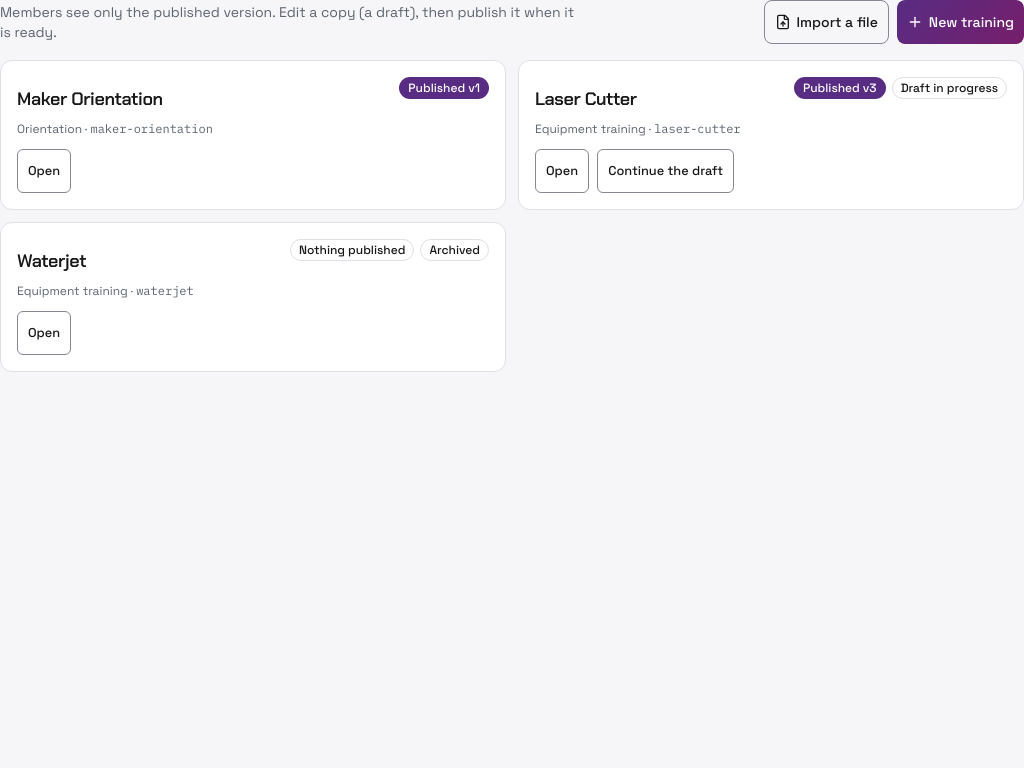
Test case: TrainingsList unsaved changes › asks before throwing away a half-filled new training
The image size is (1024, 768).
Expected: the heading "Laser Cutter" is shown, [535,87,637,111]
Click the button "New training": click(960, 22) [897,0,1023,44]
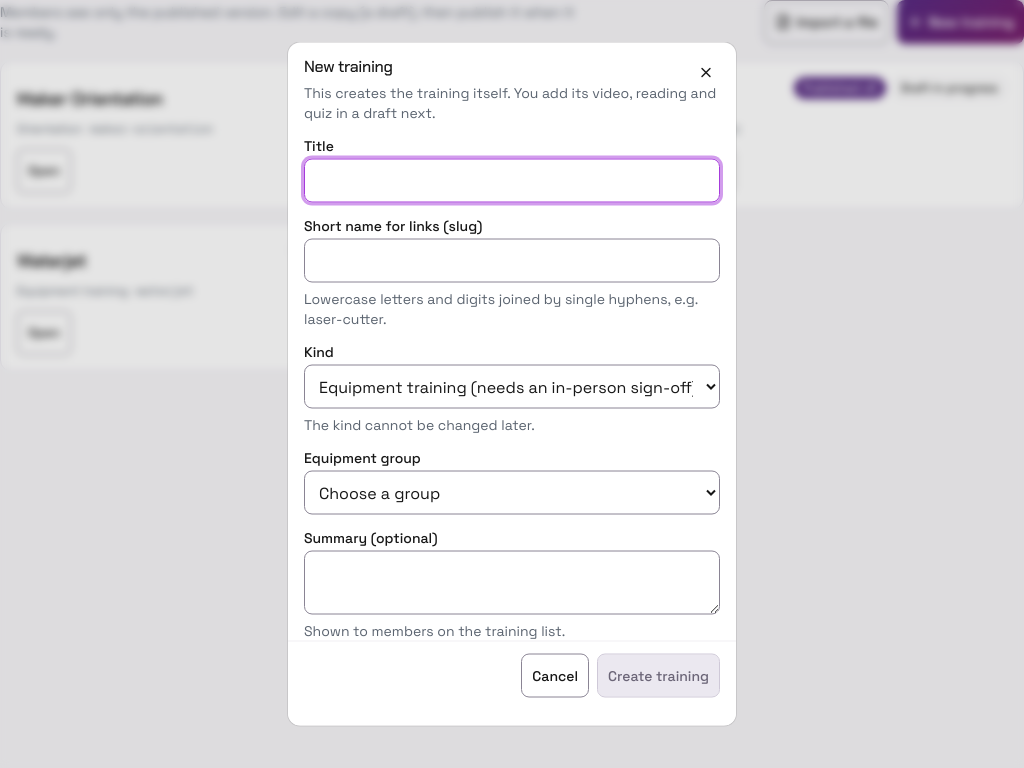
In the field labelled "Title": (512, 180) [304,158,720,202], type "CNC"
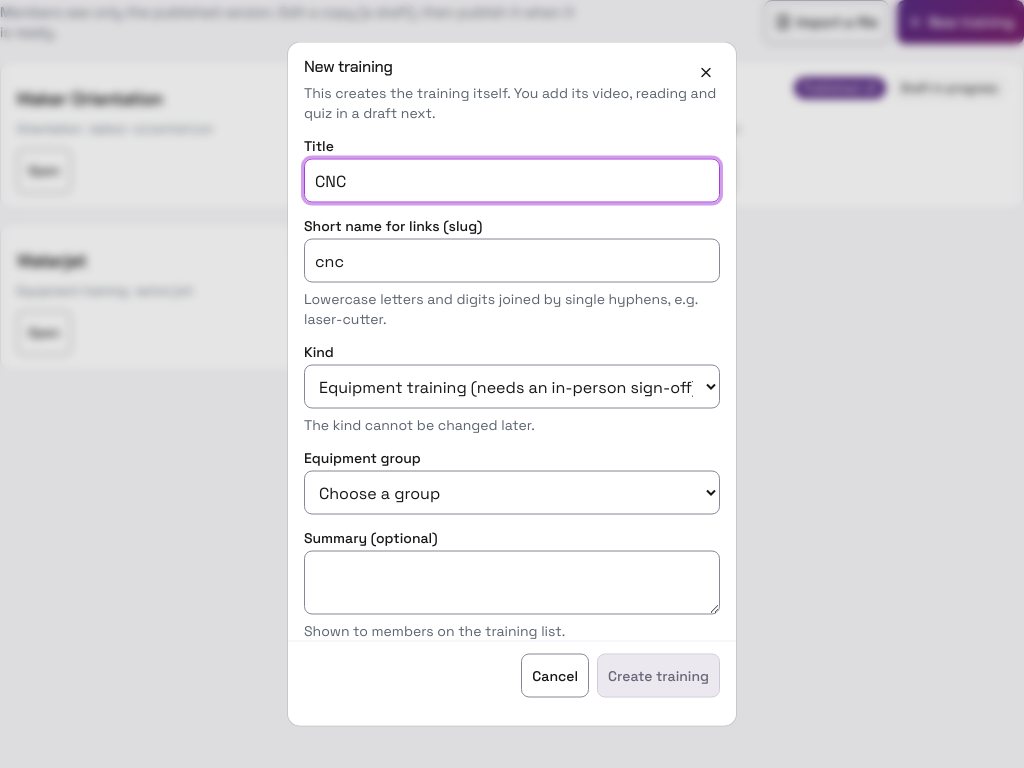
Click the button "Cancel": click(555, 676) [521,654,589,698]
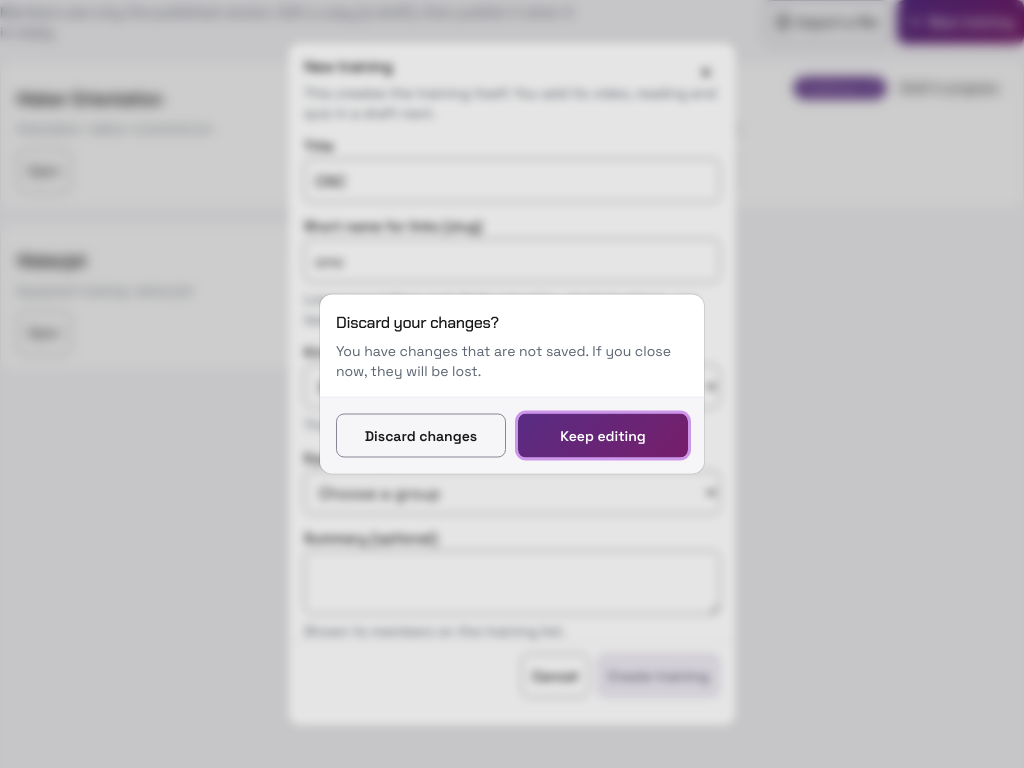
Expected: the dialog that starts with "Discard your changes?" is shown, [336,312,499,332]
